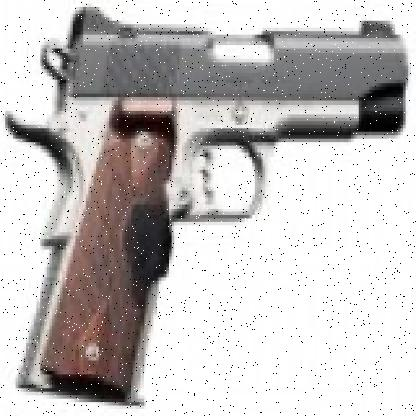pistol: (5, 7, 405, 402)
